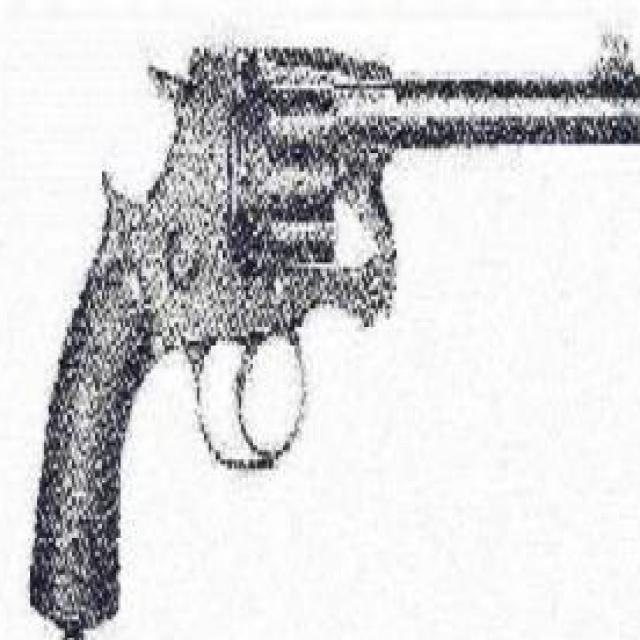pistol: (23, 21, 640, 624)
